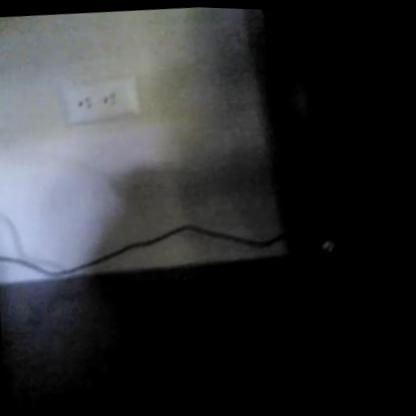OUTLET: (57, 79, 139, 125)
